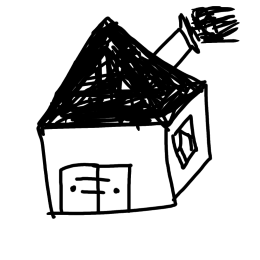door: (58, 155, 137, 217)
open_window: (170, 114, 202, 170)
shaded_roof: (24, 11, 211, 131)
smoking_chimney: (152, 2, 247, 81)
wall: (32, 119, 180, 222)
